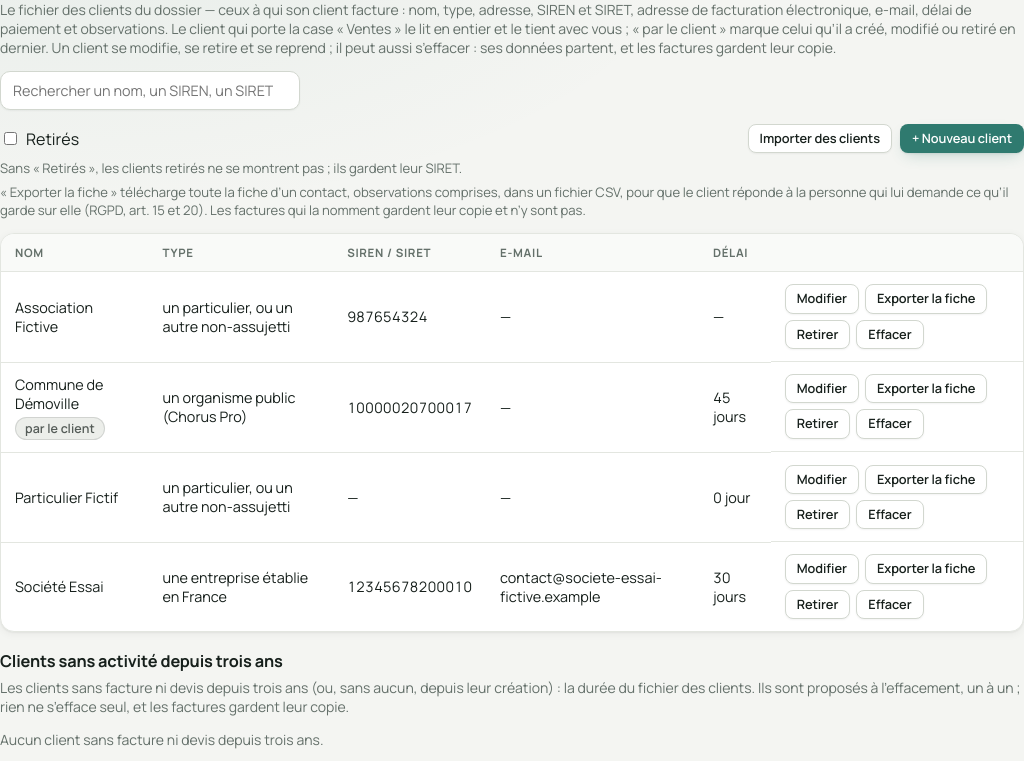
Scenario: Clients — la liste › le « N sur M » compte les retirés quand le filtre les montre
Expected: the table named "Clients" is shown, [1, 234, 1023, 631]
Click the checkbox labelled "Retirés": click(10, 139) [4, 132, 17, 145]
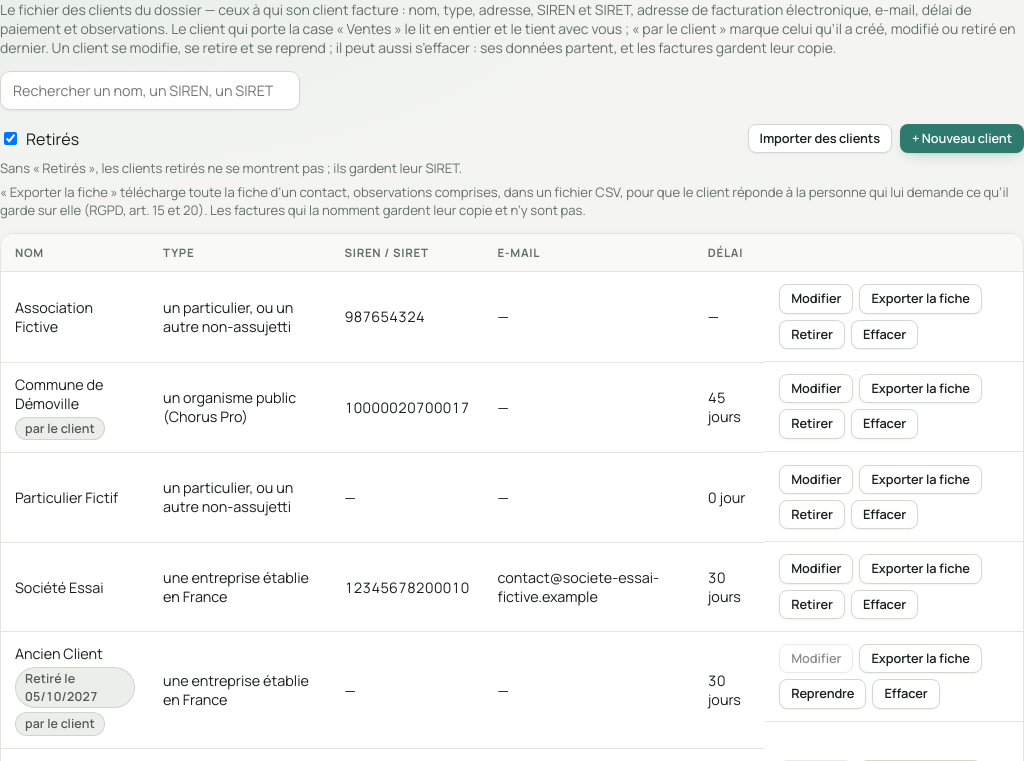
In the search field with placeholder "Rechercher un nom, un SIREN, un SIRET…": (150, 90) [0, 71, 300, 110], type "ancien"
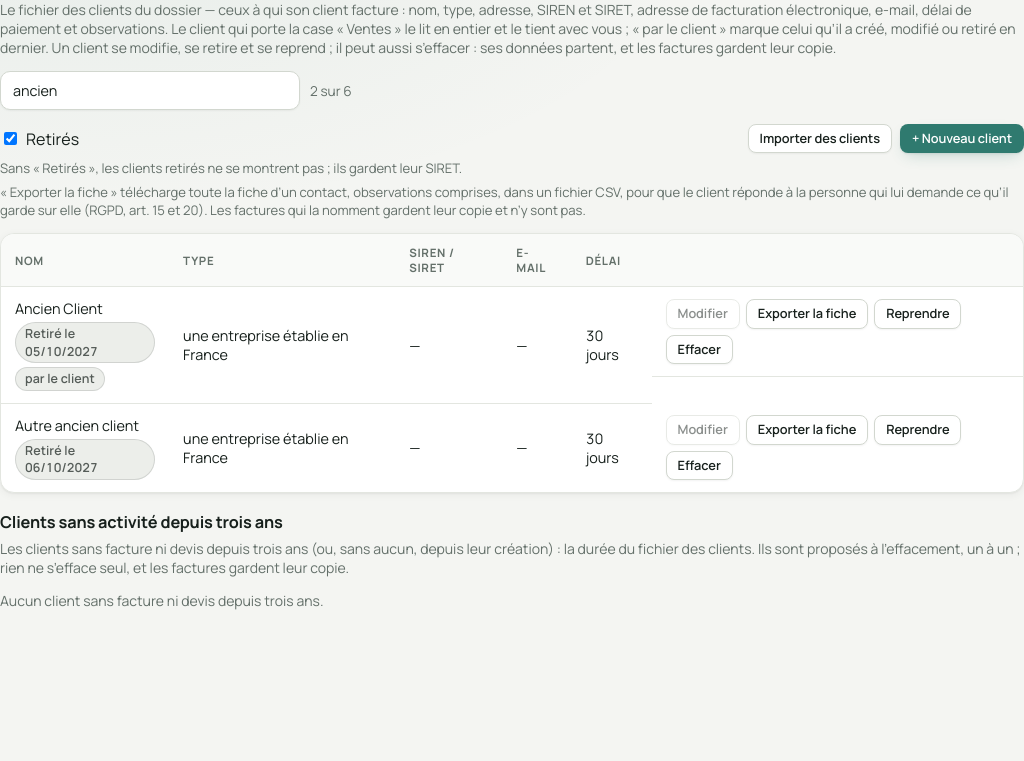
Now the text "2 sur 6" is shown, box [310, 82, 352, 100]
